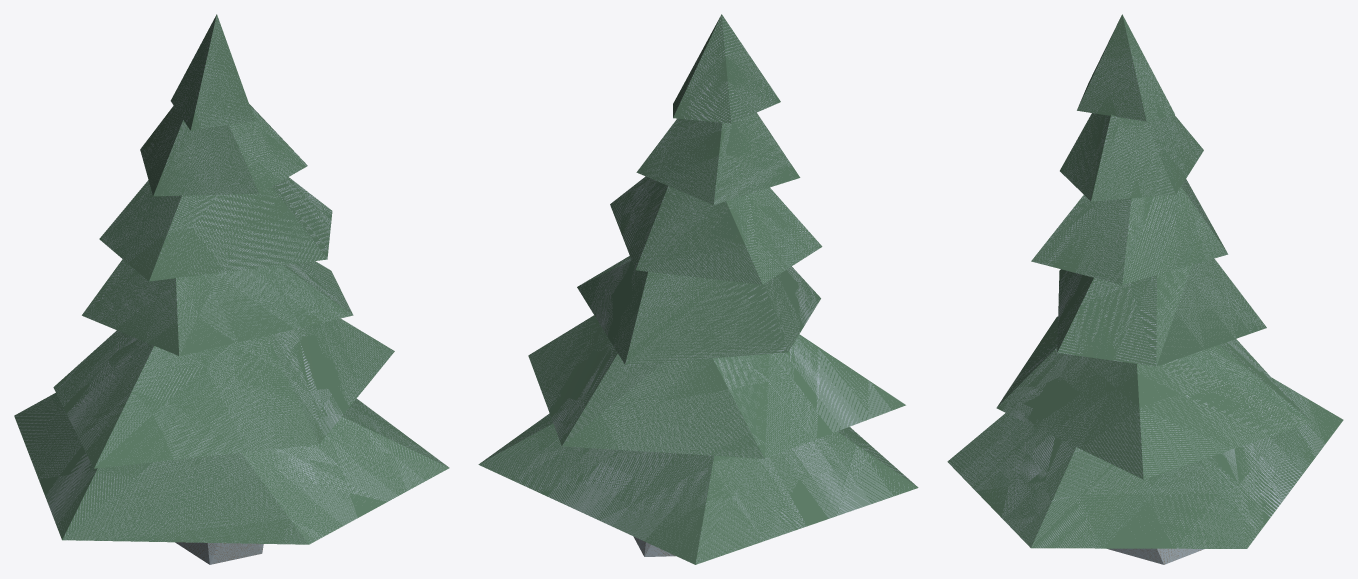
The model's file is Tree_Pine_05.fbx.
The picture shows the model from 3 angles, left to right: view 1: azimuth 30°, elevation 25°; view 2: azimuth 150°, elevation 25°; view 3: azimuth 270°, elevation 25°; orthographic projection. The views are drawn at different scales.
Parts seen in each view (by area): view 1: Model; view 2: Model; view 3: Model.
Boxes of the visible parts, x1,y1,x2,y2 form: Model: (14, 14, 449, 564); Model: (478, 14, 918, 564); Model: (947, 14, 1343, 564).
Size of the model in its own units: 453 by 630 by 438.
